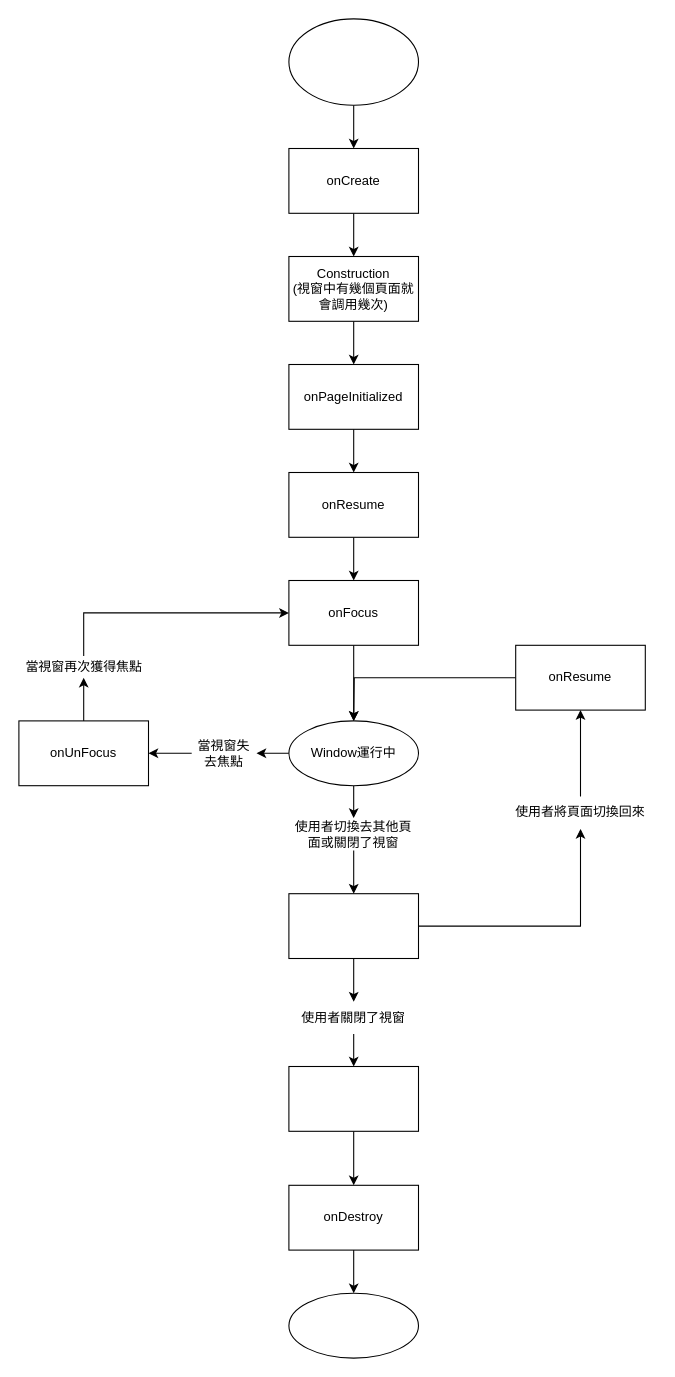
This 675x1377 diagram has some shape labels left out. Each missing label, with the centre of its shape:
"Deconstruction (視窗中有幾個頁面就會調用幾次)" goes at point 353,1098.
"onPause" goes at point 353,926.
"WindowStruct 結束" goes at point 353,1325.
"WindowStruct 開始" goes at point 353,61.
